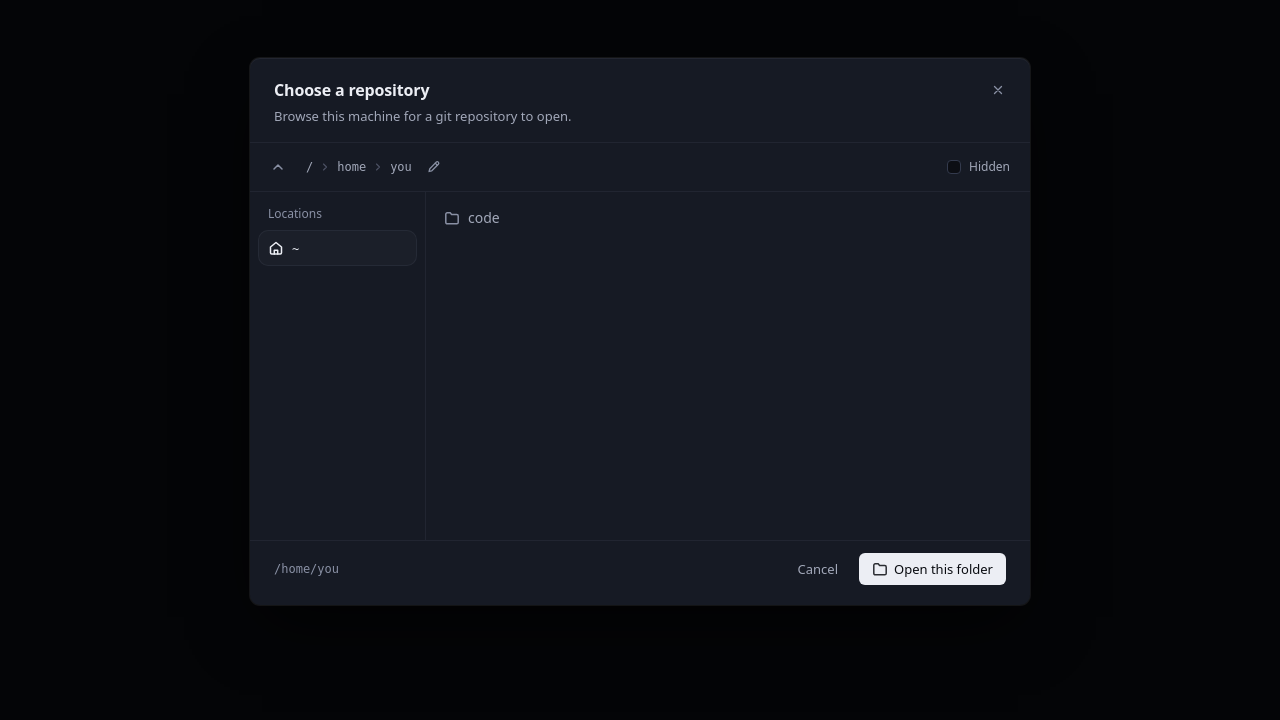
Test: DirectoryPicker › drops the notice as soon as the user goes somewhere themselves
The image size is (1280, 720).
Click the element named "Current path" at (374, 167), box [302,155,446,179]
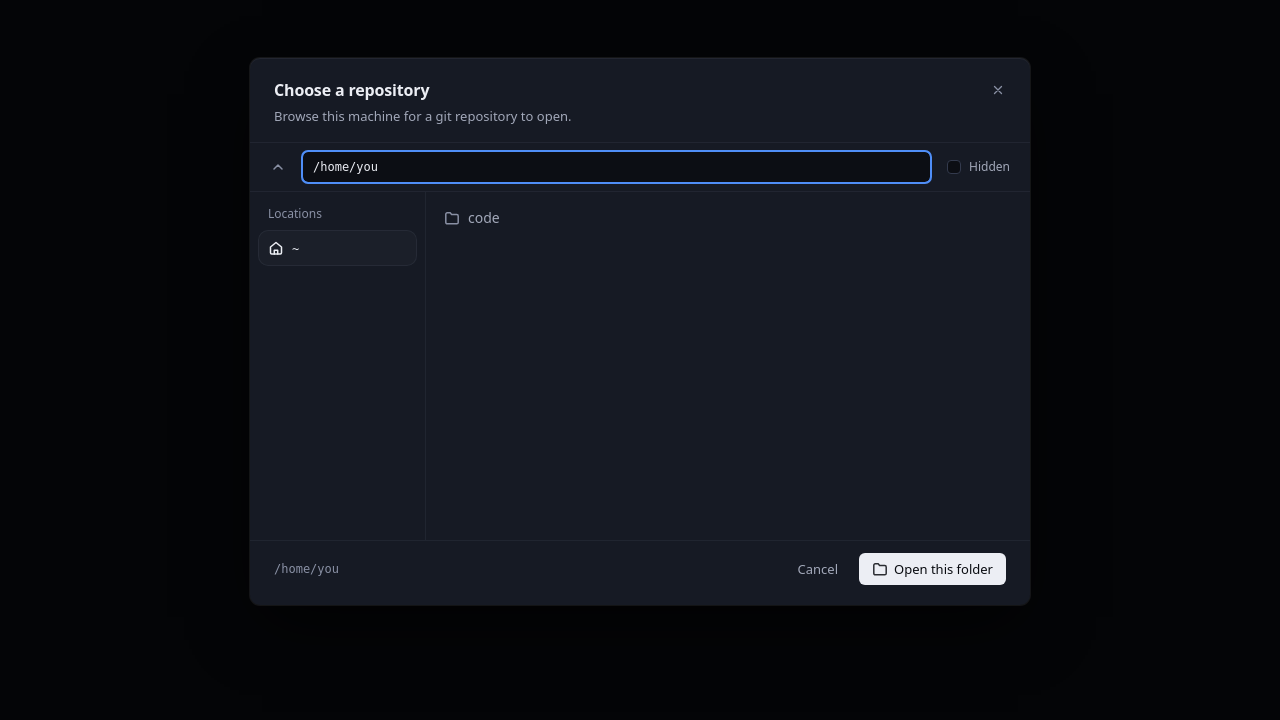
Replace the text in the field named "path" with "/home/you/nope/deeper" at (617, 167), box [302,151,931,183]
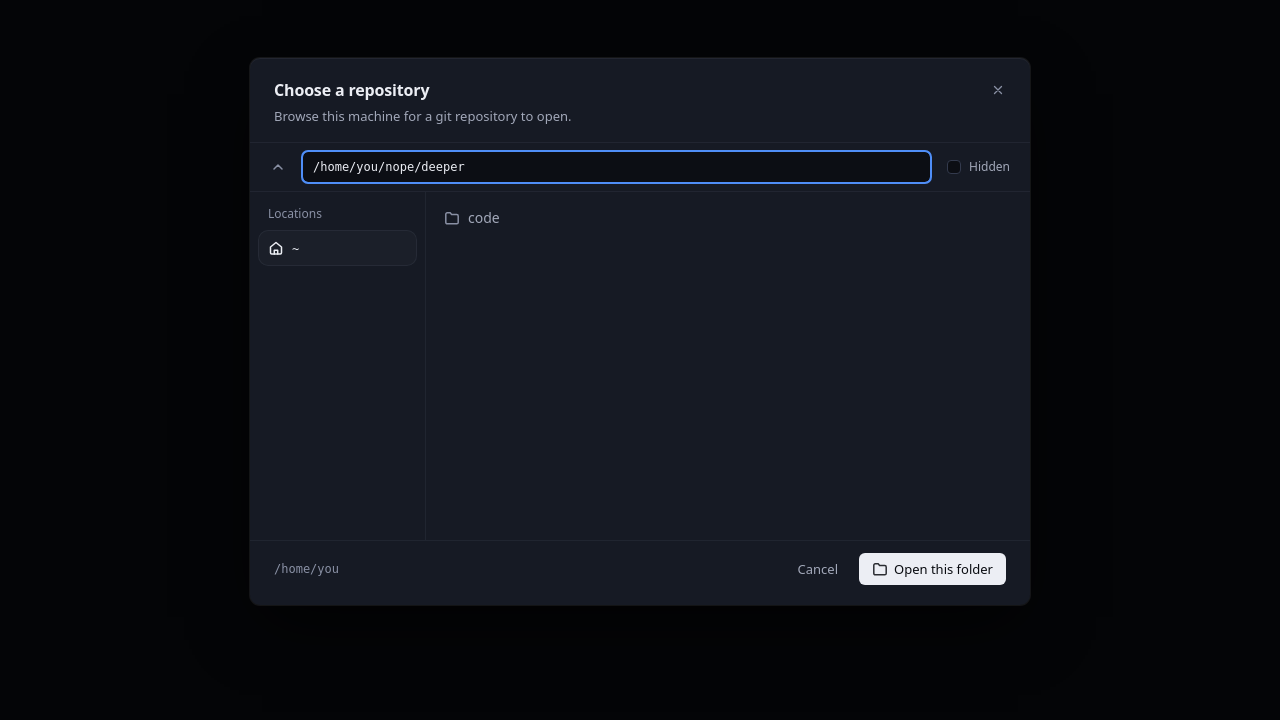
Press Enter in the field named "path", box [302,151,931,183]
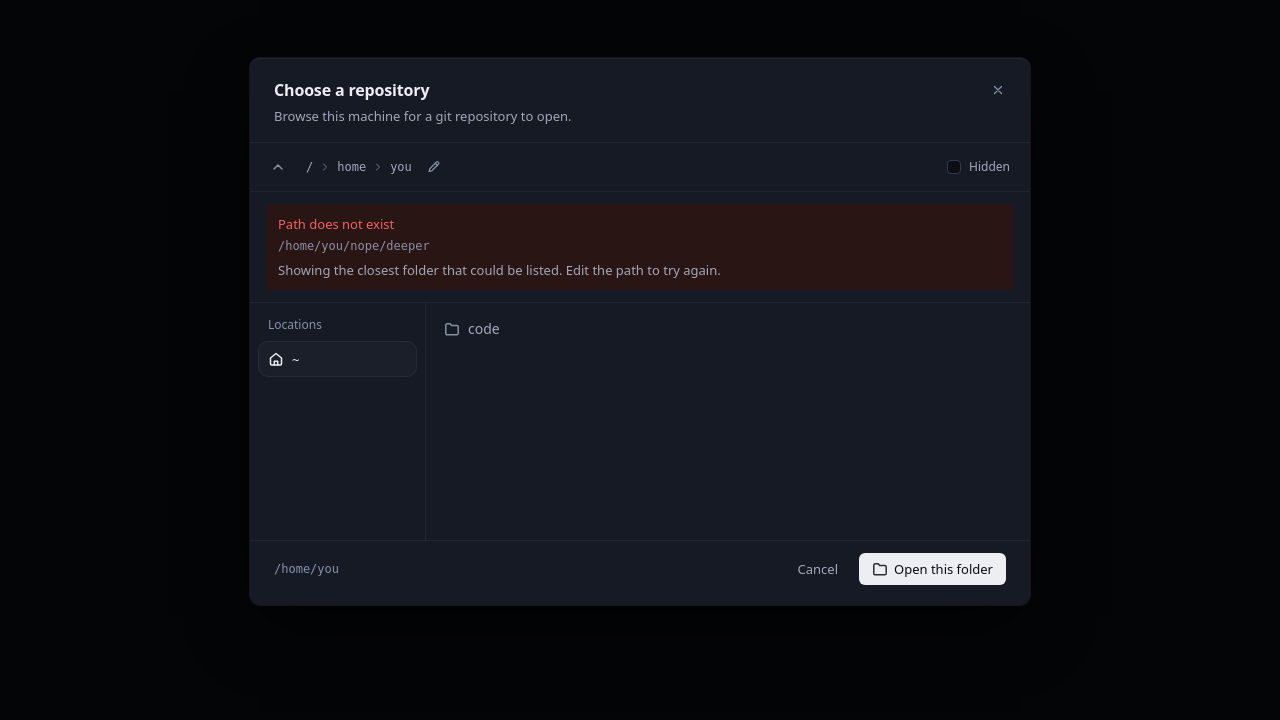
Expected: the message is shown, [266,204,1014,290]
Click the button "code" at (484, 328), box [434,311,1022,347]
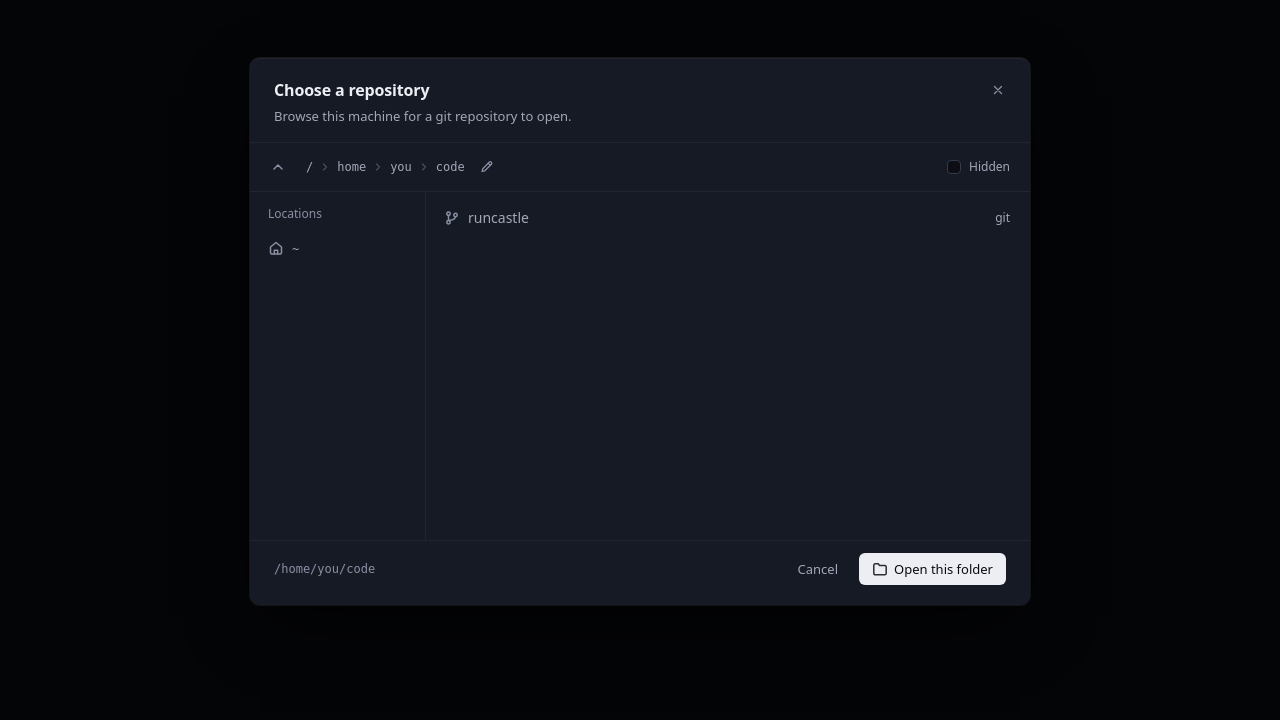
Expected: the message "Path does not exist /home/you/nope/deeper Showing the closest folder that could" is gone
